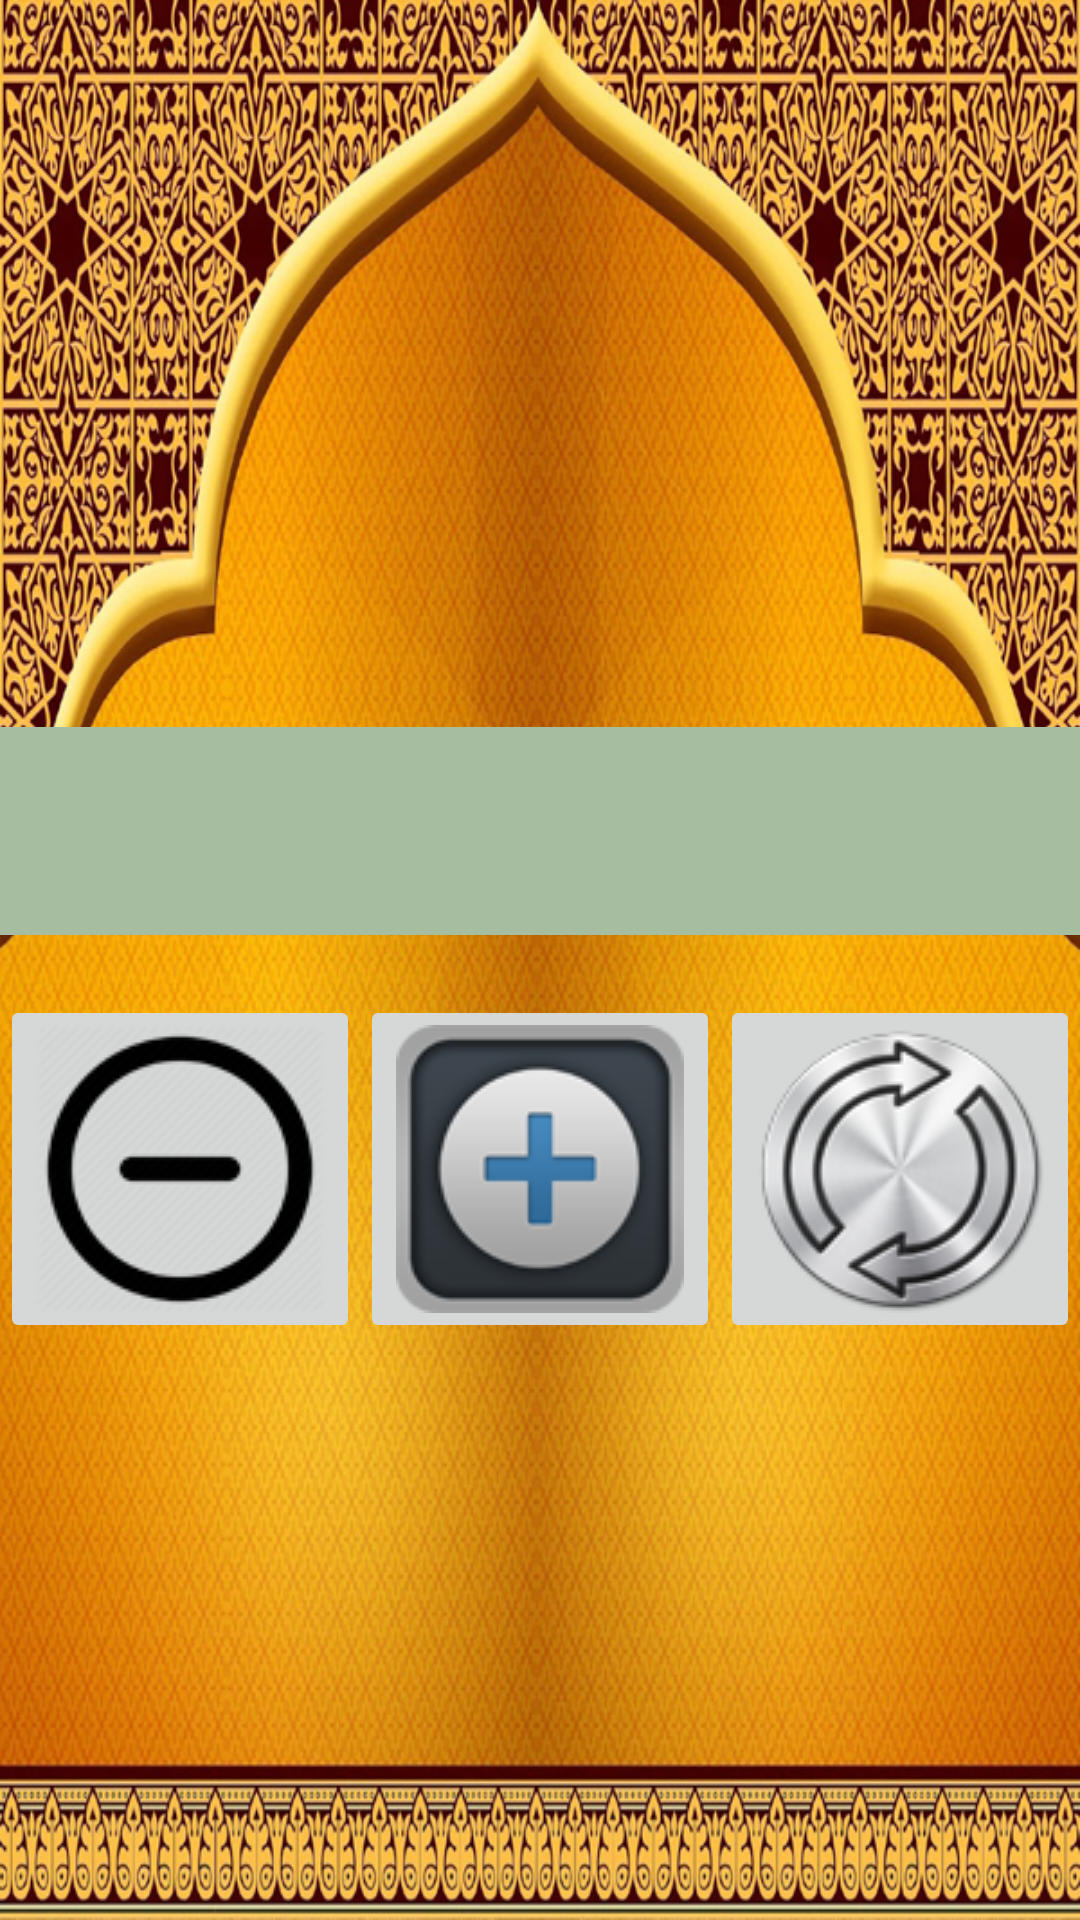

Where to tap for icons on this 1080w x 1920h app screen, as (x,y):
minuse: (179,1169)
plus: (539,1169)
reload: (900,1169)
